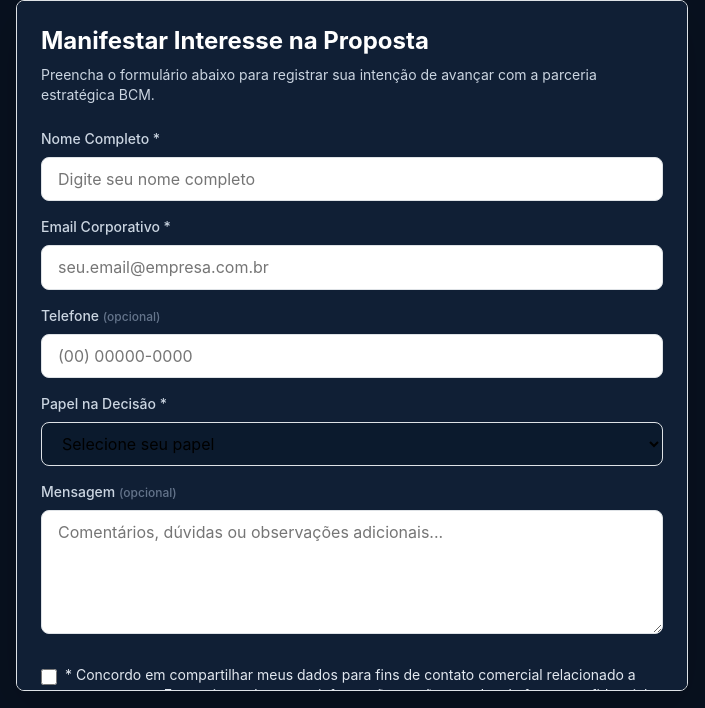
Test: IntentForm › Validation › should show error when full name is empty
Click the field labelled "Nome Completo *" at (352, 179), box left=41, top=157, right=663, bottom=201
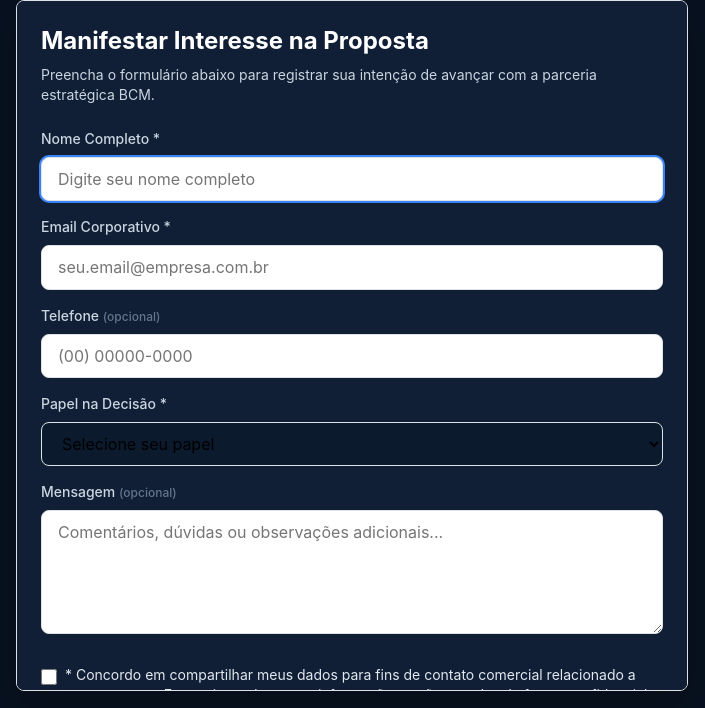
Press Tab
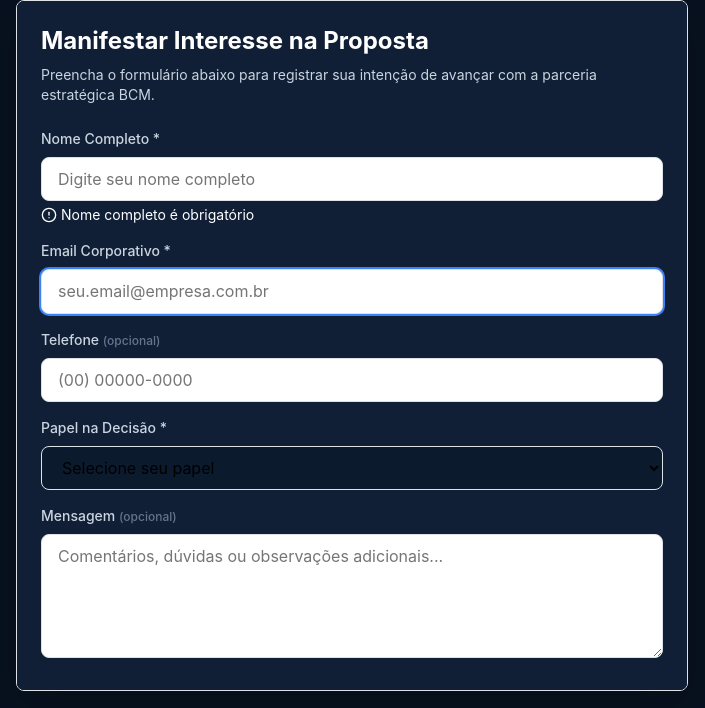
Expected: the text "Nome completo é obrigatório" is shown, left=41, top=206, right=254, bottom=223
